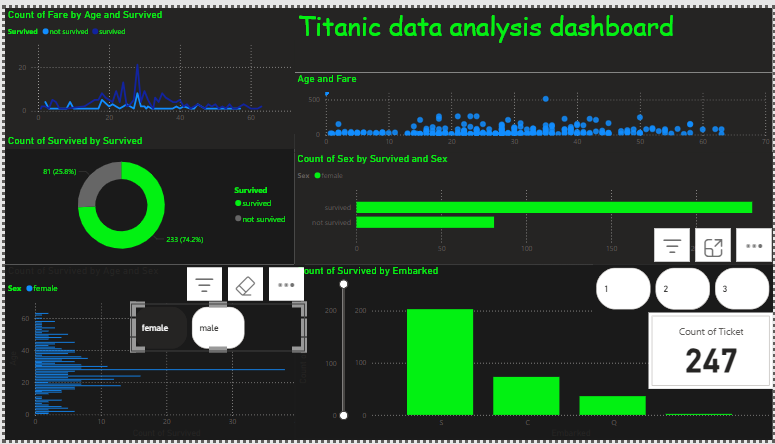

This screenshot's page, from the dashboard's own definition file:
{"tool":"powerbi","page":{"name":"Page 1","canvas":[1280,720],"ordinal":0},"visuals":[{"type":"donutChart","fields":{"Y":["CountNonNull(Titanic dataset.Survived)"],"Category":["Titanic dataset.Survived"]},"box":[0,210,482.5,217.5],"z":0},{"type":"barChart","fields":{"Category":["Titanic dataset.Survived"],"Y":["CountNonNull(Titanic dataset.Sex)"],"Series":["Titanic dataset.Sex"]},"box":[482.5,240,797.5,187.5],"z":1000},{"type":"barChart","fields":{"Category":["Titanic dataset.Age"],"Y":["CountNonNull(Titanic dataset.Survived)"],"Series":["Titanic dataset.Sex"]},"box":[0,427.3,500,292.7],"z":2000},{"type":"clusteredColumnChart","fields":{"Category":["Titanic dataset.Embarked"],"Y":["CountNonNull(Titanic dataset.Survived)"]},"box":[483.3,426.7,796.7,293.3],"z":3000},{"type":"scatterChart","fields":{"X":["Titanic dataset.Age"],"Y":["Titanic dataset.Fare"]},"box":[483.3,106.7,796.7,133.3],"z":4000},{"type":"advancedSlicerVisual","fields":{"Values":["Titanic dataset.Sex"]},"box":[210,492.5,290,80],"z":5000},{"type":"lineChart","fields":{"Category":["Titanic dataset.Age"],"Y":["Count(Titanic dataset.Fare)"],"Series":["Titanic dataset.Survived"]},"box":[0,0,483.3,210],"z":6000},{"type":"advancedSlicerVisual","fields":{"Values":["Titanic dataset.Pclass"]},"box":[980,426.7,300,80],"z":7000},{"type":"cardVisual","fields":{"Data":["Count(Titanic dataset.Ticket)"]},"box":[1073.3,510,206.7,126.7],"z":8000},{"type":"textbox","title":"Titanic data analysis dashboard","box":[483.3,0,796.7,106.7],"z":9000}]}

Visuals, with their boxes in screenshot pixels (x1, y1, x2, y2), scaled from the page's 1280x720 canvas onto the 775x444 screenshot:
donutChart - CountNonNull(Titanic dataset.Survived) x Titanic dataset.Survived: [left=0, top=130, right=292, bottom=264]
barChart - Titanic dataset.Survived x CountNonNull(Titanic dataset.Sex): [left=292, top=148, right=774, bottom=264]
barChart - Titanic dataset.Age x CountNonNull(Titanic dataset.Survived): [left=0, top=264, right=303, bottom=443]
clusteredColumnChart - Titanic dataset.Embarked x CountNonNull(Titanic dataset.Survived): [left=293, top=263, right=774, bottom=443]
scatterChart - Titanic dataset.Age x Titanic dataset.Fare: [left=293, top=66, right=774, bottom=148]
advancedSlicerVisual - Titanic dataset.Sex: [left=127, top=304, right=303, bottom=353]
lineChart - Titanic dataset.Age x Count(Titanic dataset.Fare): [left=0, top=0, right=293, bottom=130]
advancedSlicerVisual - Titanic dataset.Pclass: [left=593, top=263, right=774, bottom=312]
cardVisual - Count(Titanic dataset.Ticket): [left=650, top=314, right=774, bottom=393]
"Titanic data analysis dashboard" textbox: [left=293, top=0, right=774, bottom=66]
